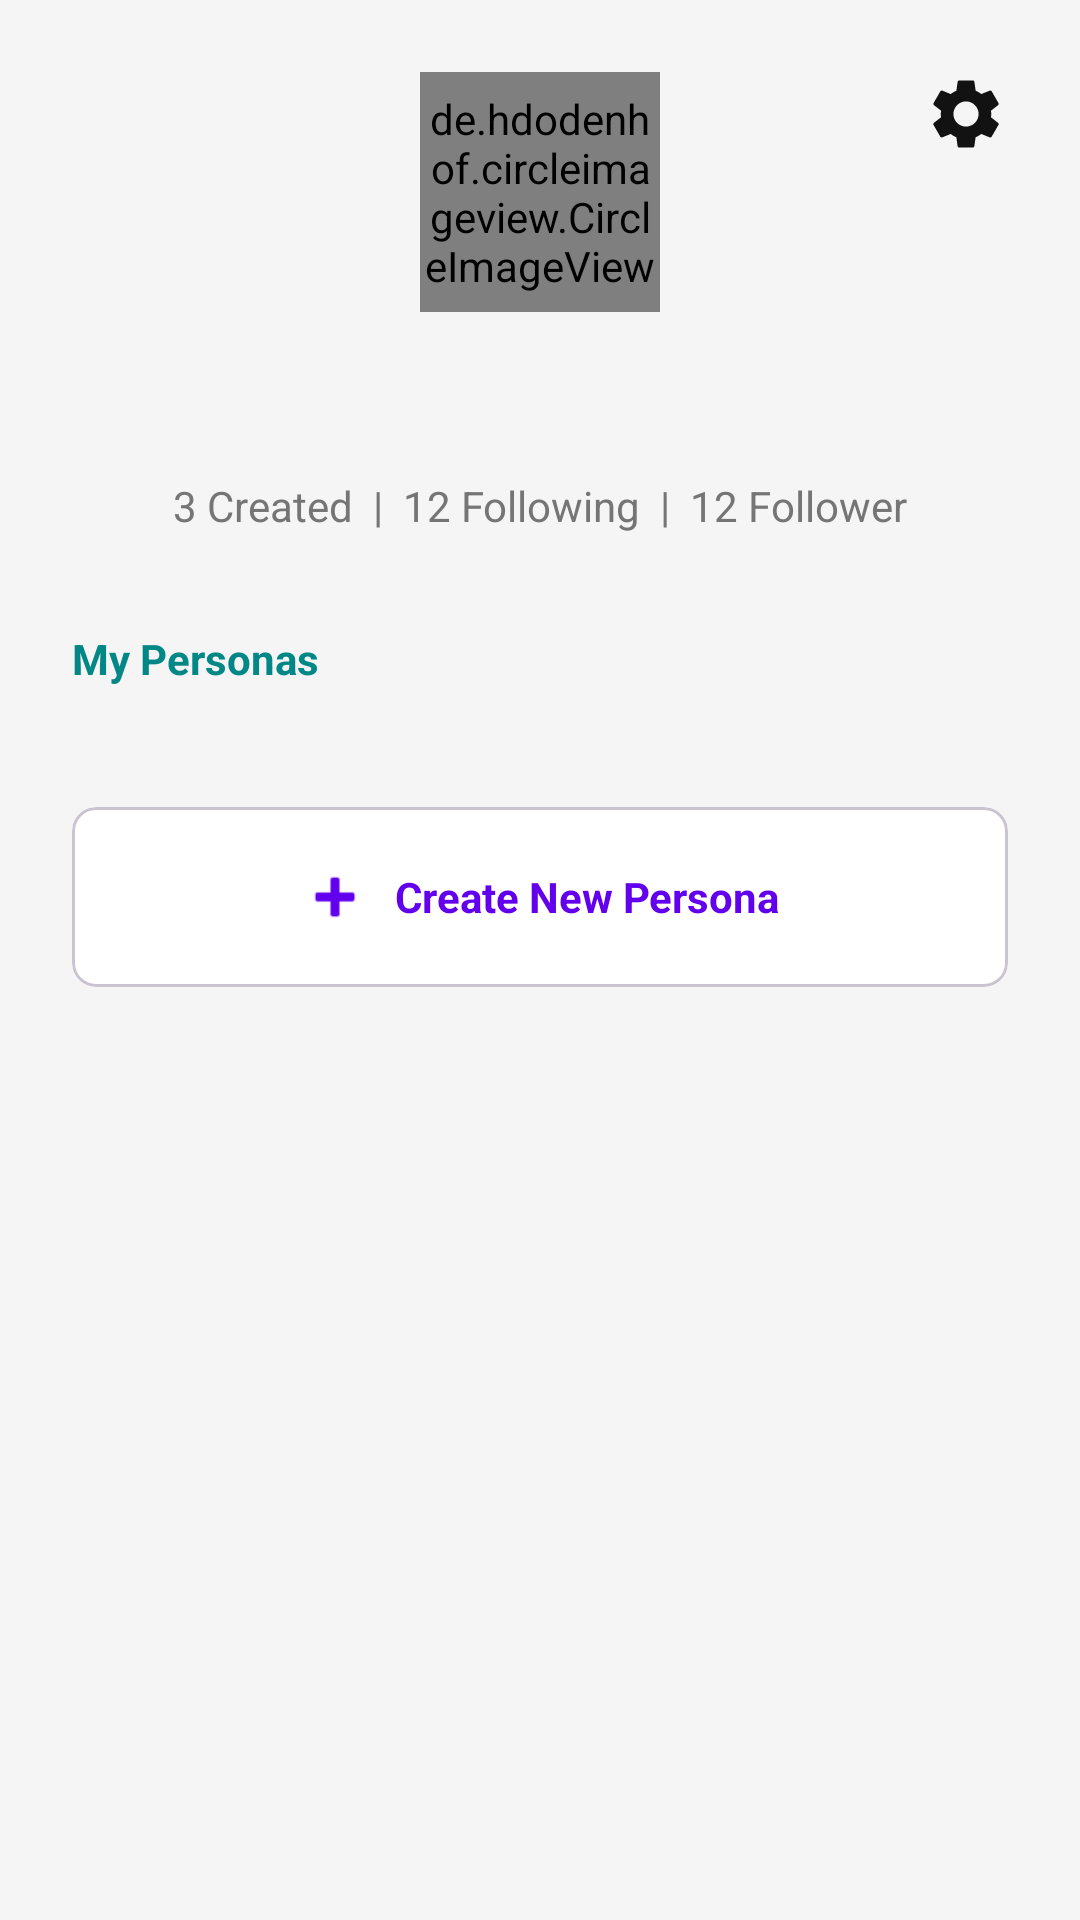

Where icons sit on this 1080 × 1920 app screen, as (x1, y1, x2, y2):
add: (314, 877, 356, 917)
settings: (933, 80, 999, 148)
